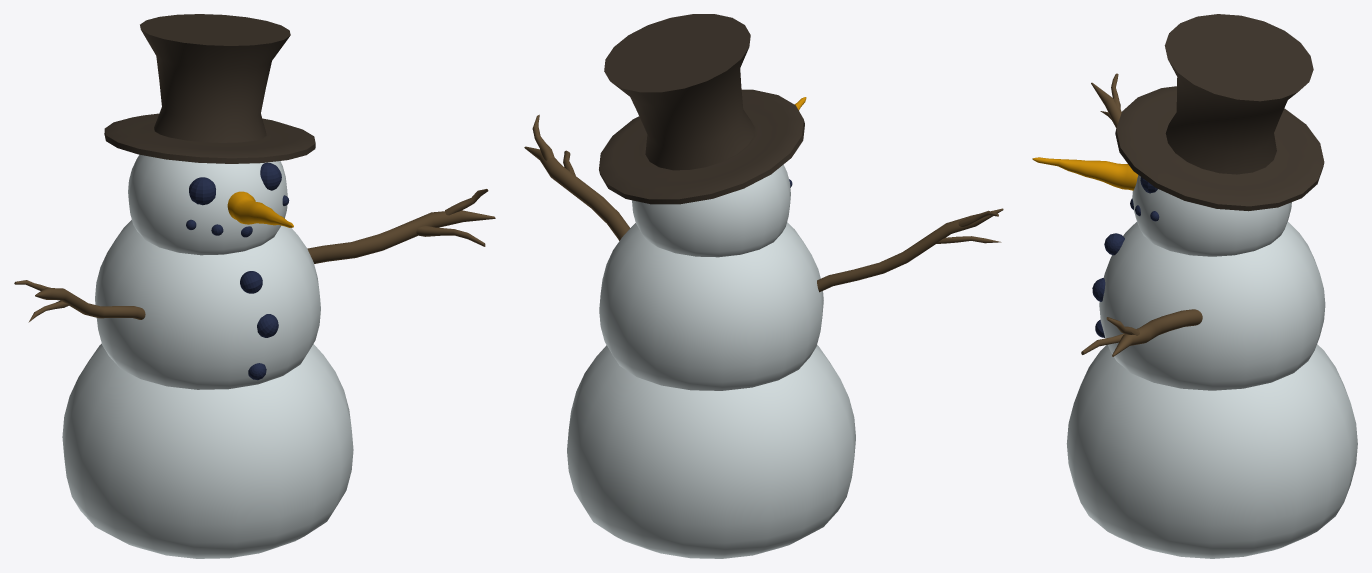
File: snow_dude.glb
3 renders of one model, left to right at view 1: azimuth 30°, elevation 25°; view 2: azimuth 150°, elevation 25°; view 3: azimuth 270°, elevation 25°, orthographic.
Parts seen in each view (by area): view 1: SnowBall1, SnowBall2, top01, SnowBall3, HatBrim01, pCylinder3 (×2), Carrot, Coal01; view 2: SnowBall1, SnowBall2, top01, HatBrim01, SnowBall3, pCylinder3 (×2); view 3: SnowBall1, SnowBall2, top01, HatBrim01, SnowBall3, pCylinder3 (×2), Carrot.
Boxes of the visible parts, x1,y1,x2,y2 form: SnowBall1: (62,343,353,558); SnowBall2: (95,220,320,389); top01: (140,14,290,142); SnowBall3: (128,154,287,255); HatBrim01: (104,113,315,163); pCylinder3 (×2): (35,210,495,319); Carrot: (227,191,293,227); Coal01: (189,177,215,205); SnowBall1: (567,345,855,558); SnowBall2: (599,222,823,390); top01: (604,14,754,170); HatBrim01: (599,89,804,204); SnowBall3: (632,164,790,257); pCylinder3 (×2): (524,146,1003,292); SnowBall1: (1066,344,1357,558); SnowBall2: (1099,222,1325,390); top01: (1164,14,1313,174); HatBrim01: (1115,86,1324,211); SnowBall3: (1132,175,1291,256); pCylinder3 (×2): (1091,82,1202,356); Carrot: (1032,157,1138,190).
Size of the model in its own units: 0.0378 by 0.0381 by 0.0224.
